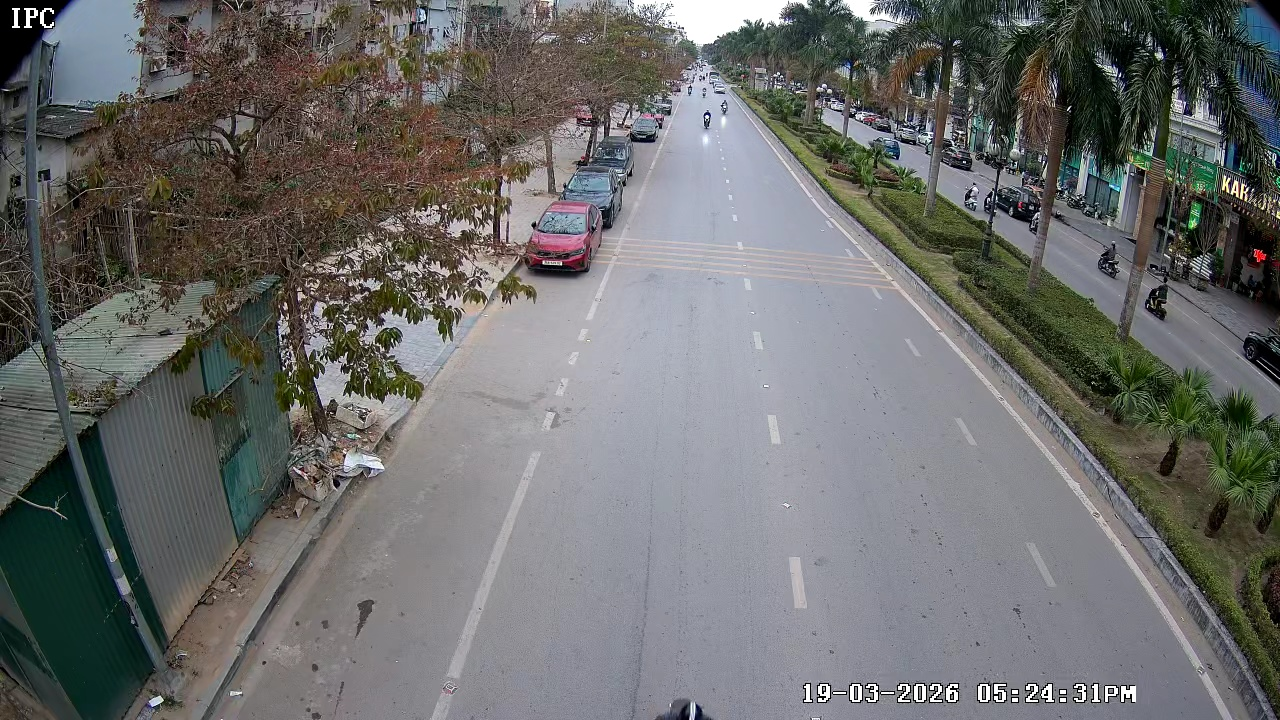car: (524, 199, 602, 277)
motorbike: (702, 109, 713, 129)
